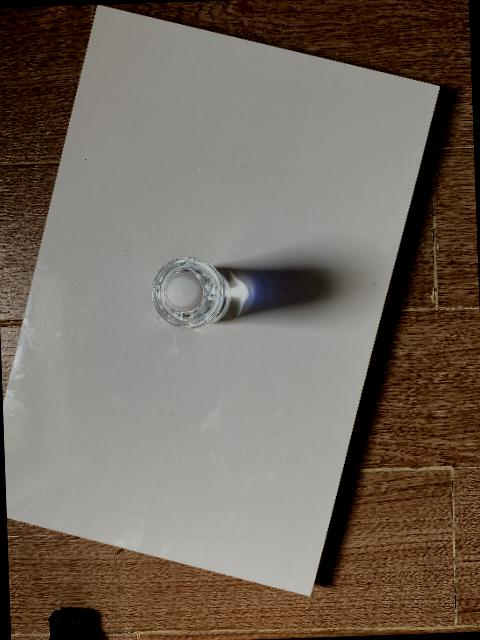aquafina: (152, 257, 232, 330)
